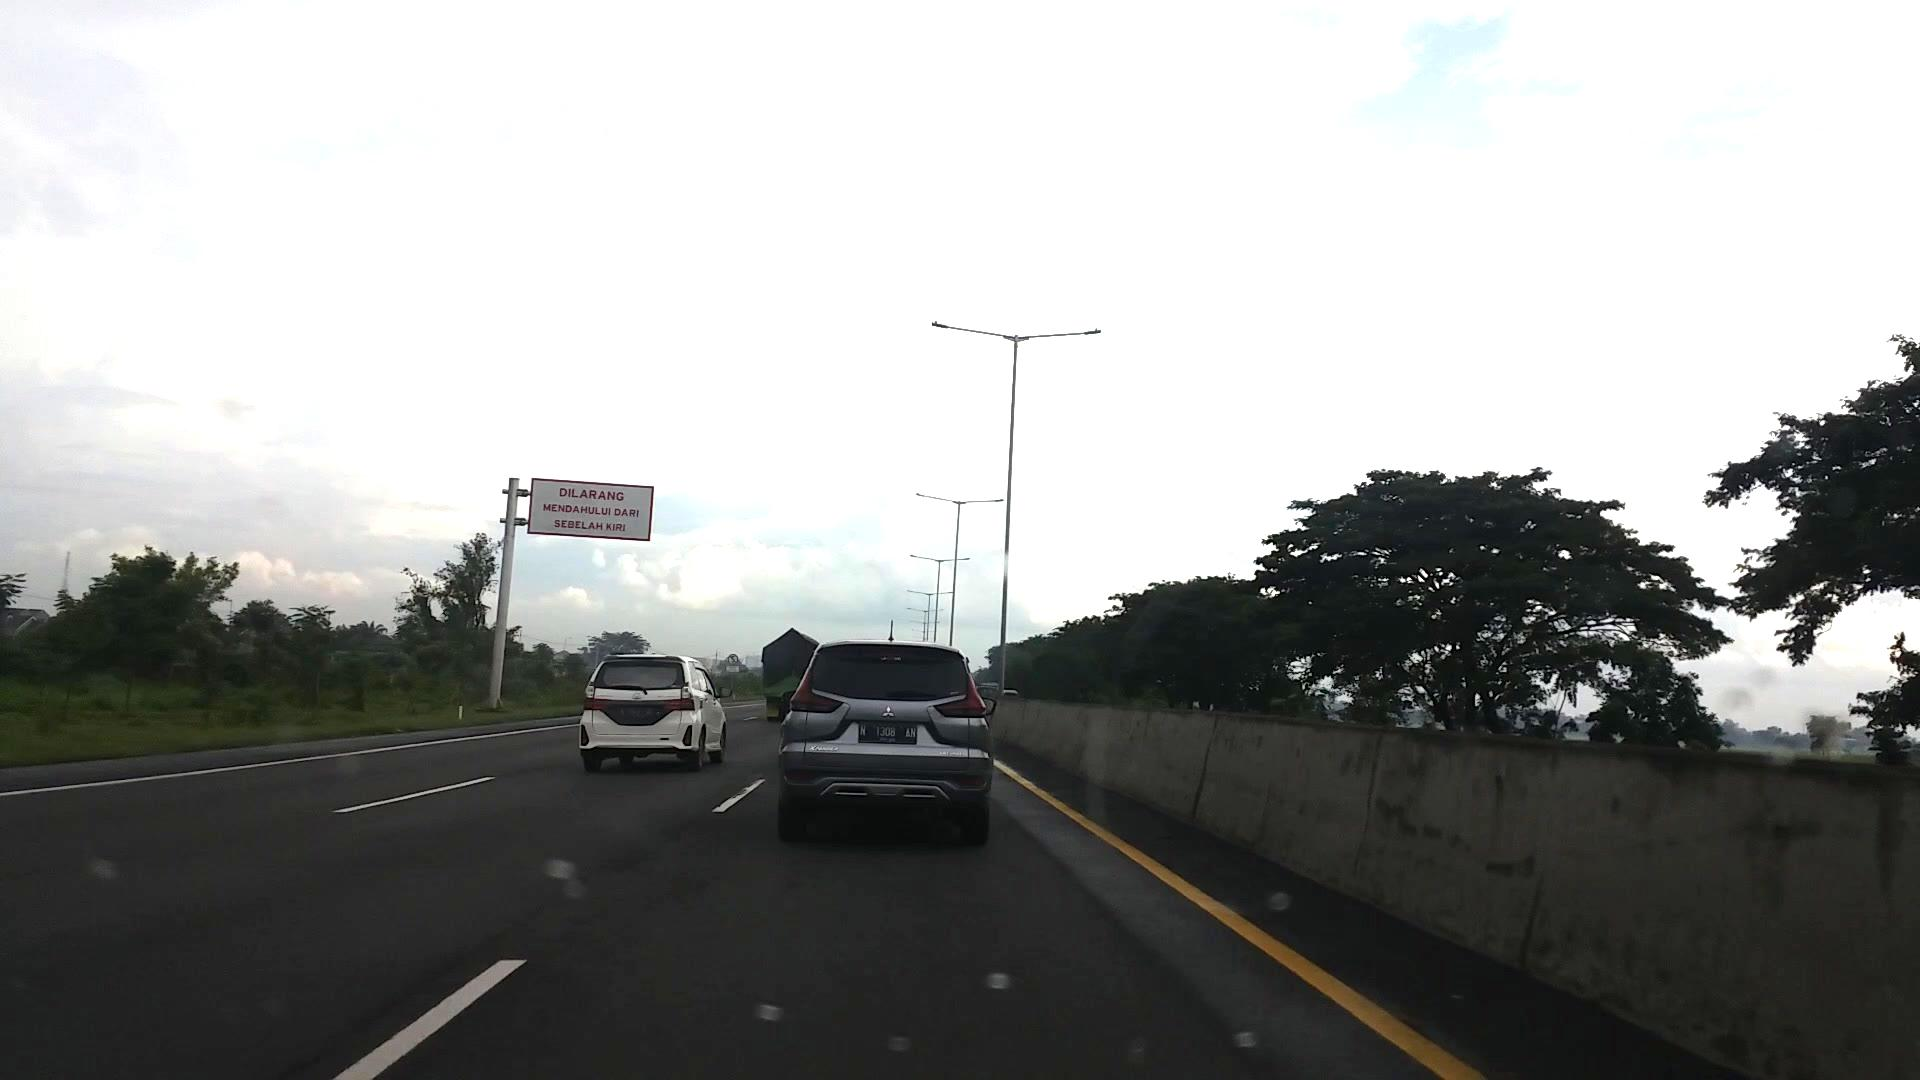plate_positive: (858, 723, 916, 745)
